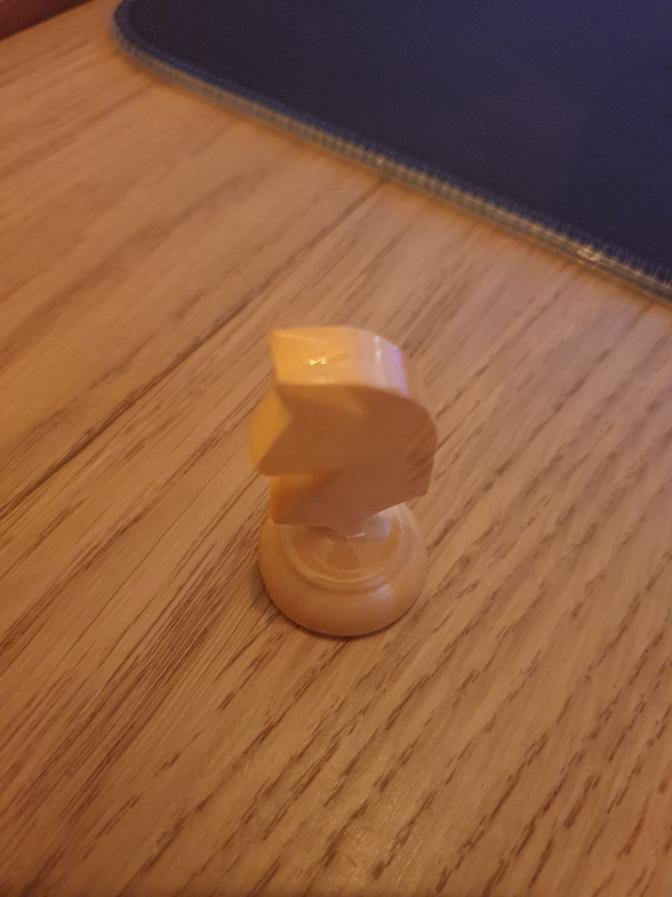wknight: (249, 325, 430, 642)
